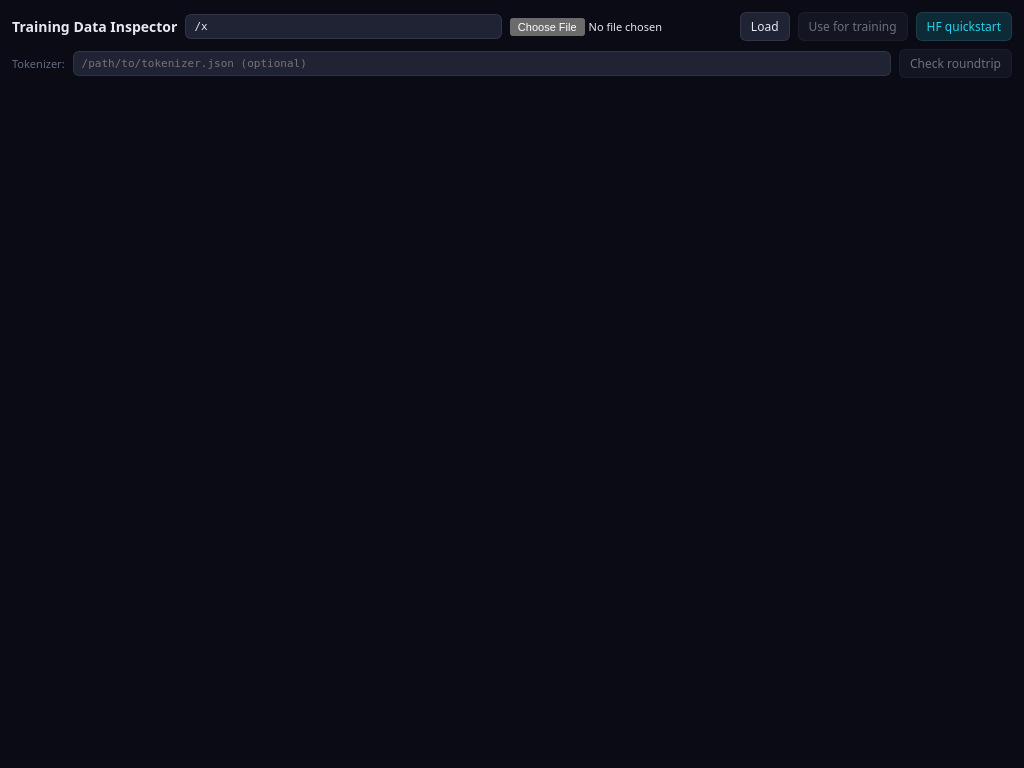
Test: DataInspector › renders array channel as per-token strip
Click the button with test id "data-load": x=765, y=26 top-left (740, 12), bottom-right (790, 41)
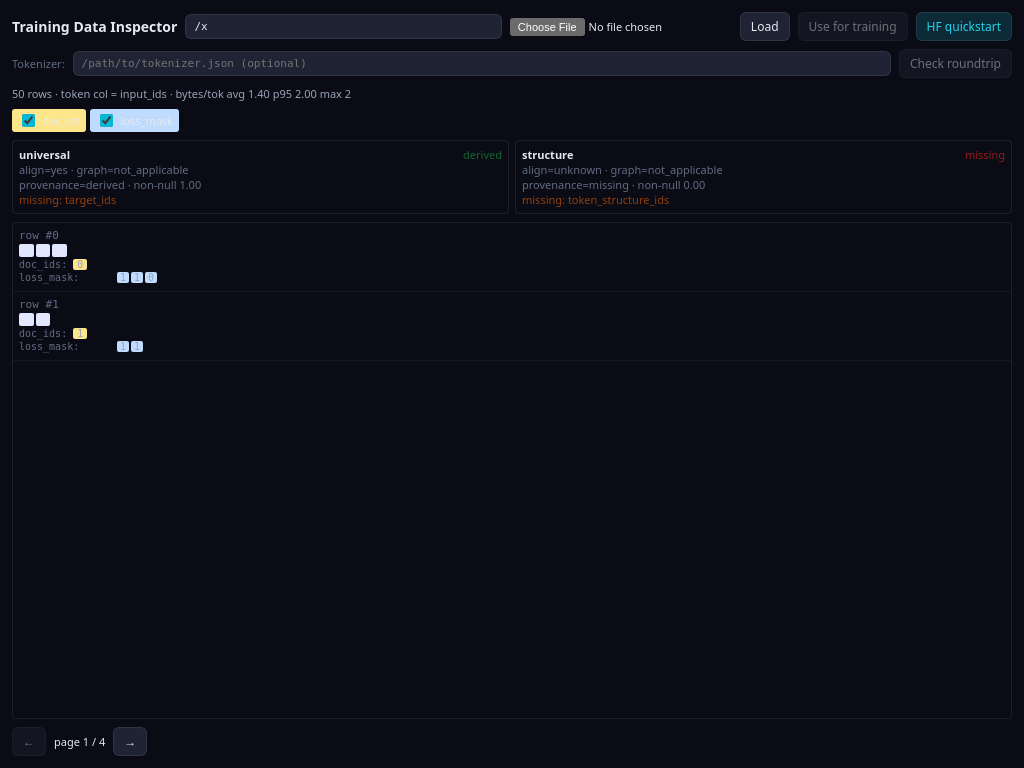
Check: the element with test id "data-ribbon-0-loss_mask" is shown, box top-left (19, 272), bottom-right (157, 283)
Check: the element with test id "data-ribbon-0-loss_mask" shows "1", box top-left (120, 272), bottom-right (126, 283)
Check: the element with test id "data-ribbon-0-loss_mask" shows "0", box top-left (148, 272), bottom-right (154, 283)
